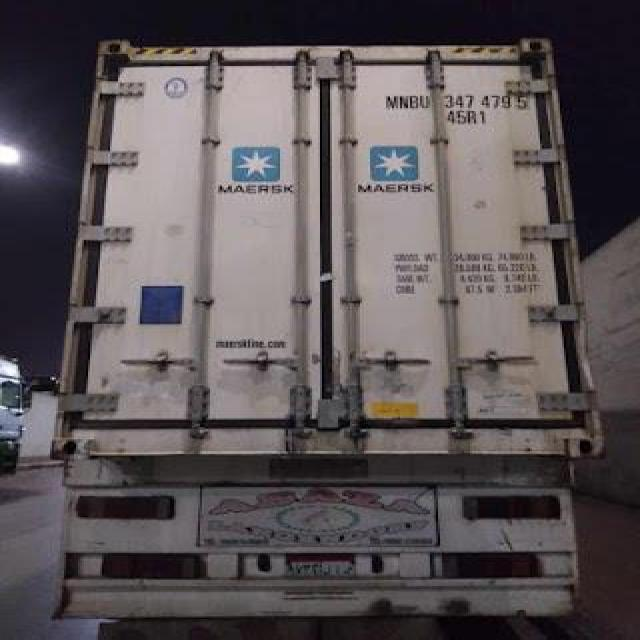ISO: (442, 110, 496, 124)
container_number: (386, 92, 528, 114)
